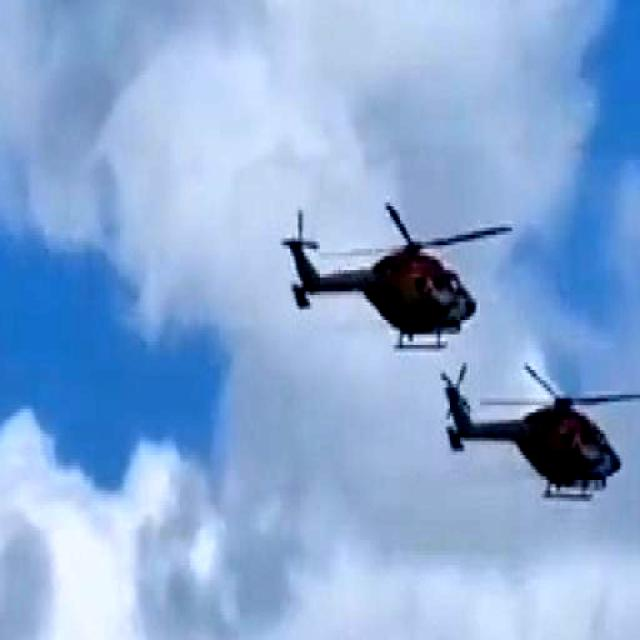drone: (274, 172, 525, 358), (434, 365, 640, 506)
